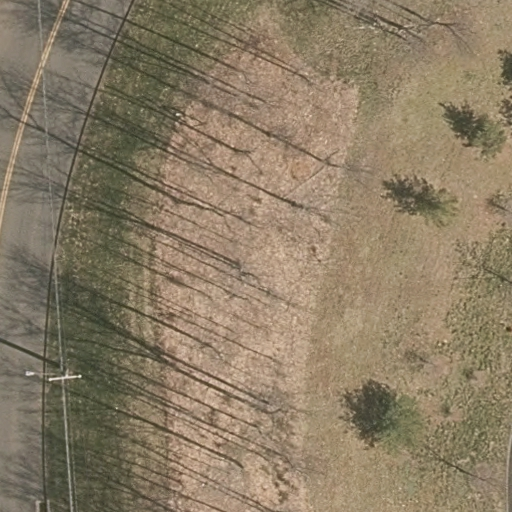DT: (43, 371, 87, 388)
